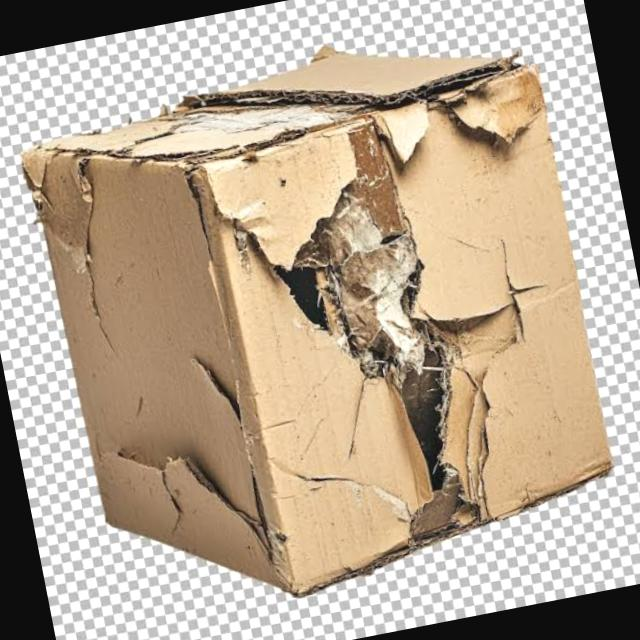package_damage: (11, 11, 631, 620)
